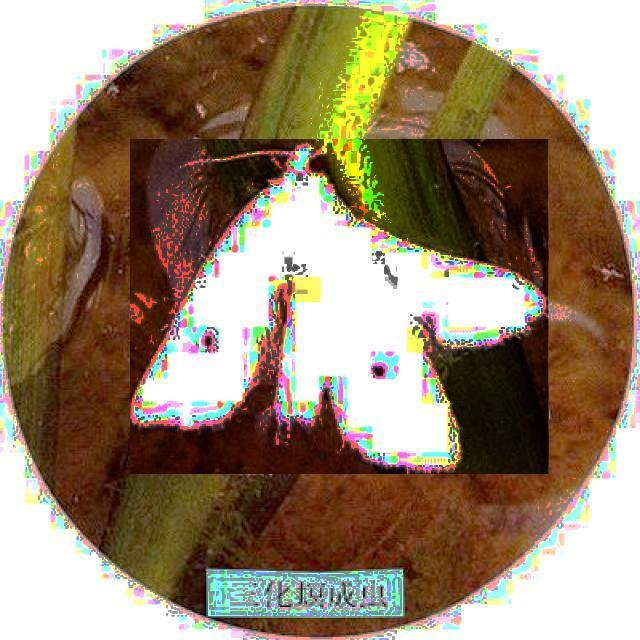stem-borer: (131, 139, 548, 474)
